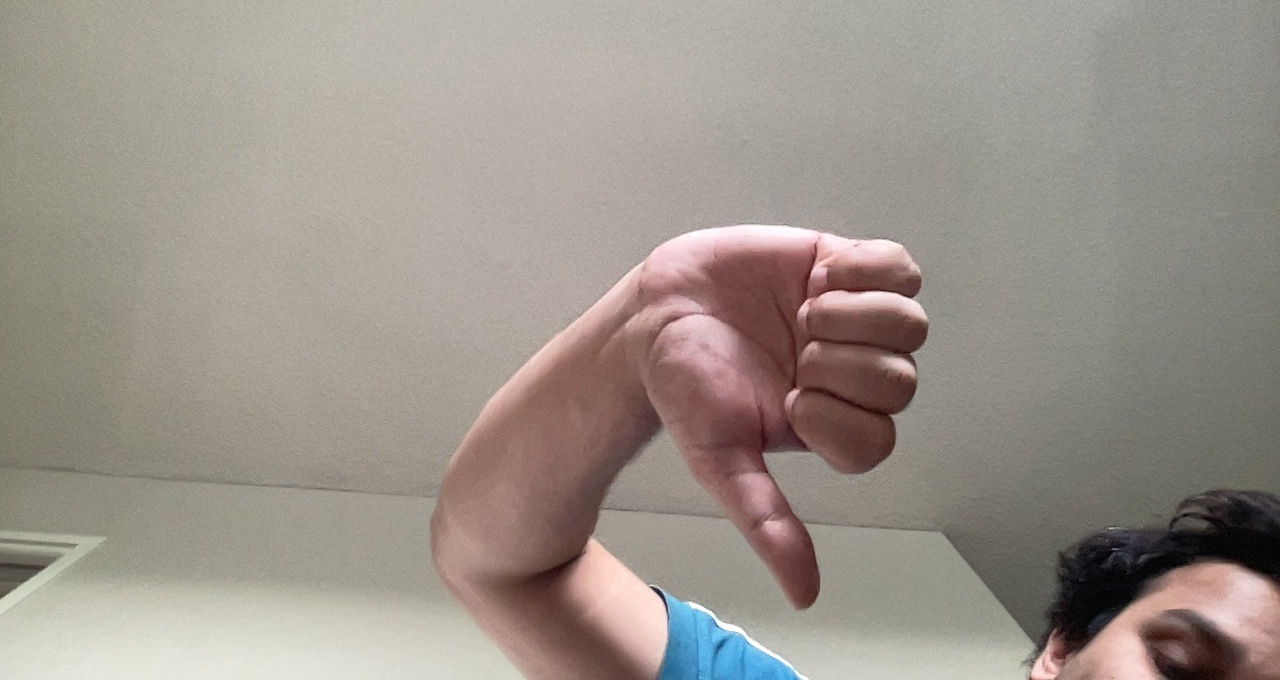thumbsdown: (619, 210, 944, 610)
